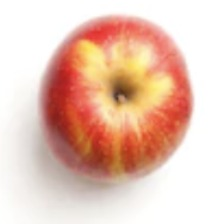apple: (34, 50, 175, 218)
